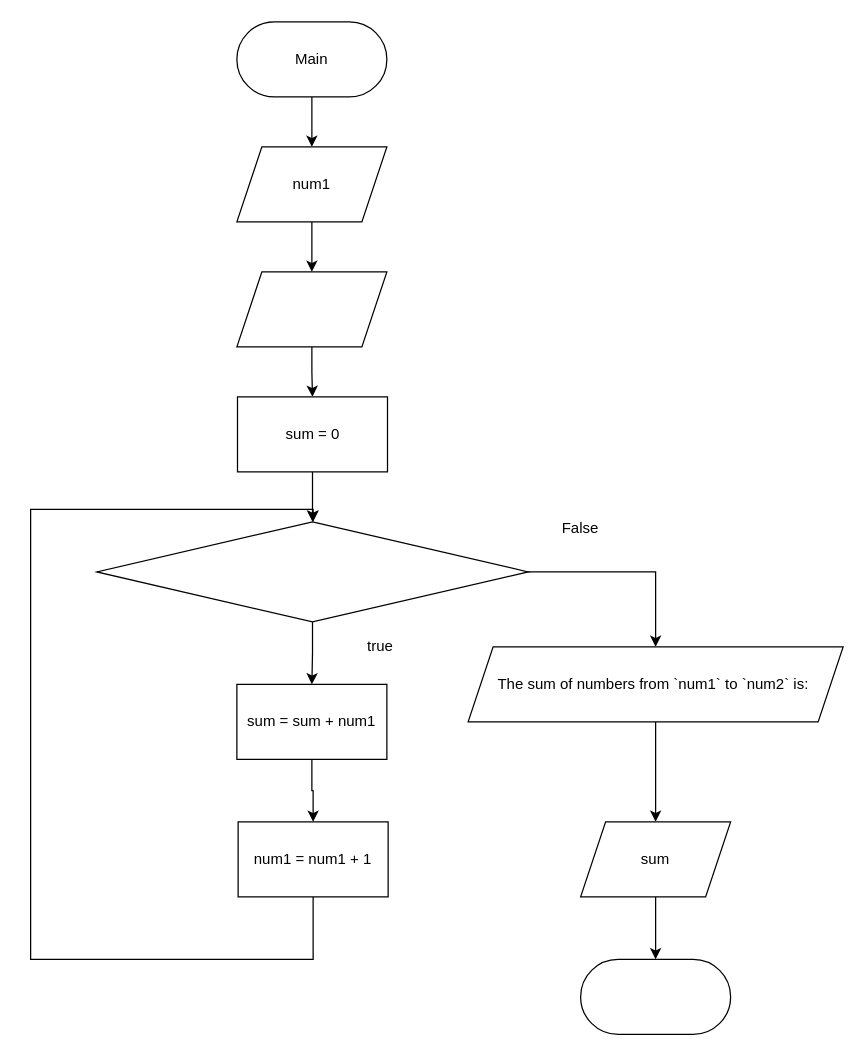
The diagram is 865 pixels wide and 1056 high, and some of its shapes have lost their labels. Each missing label, with the centre of its shape:
END: (x=655, y=996)
num1 != num2: (x=312, y=571)
num2: (x=311, y=309)
